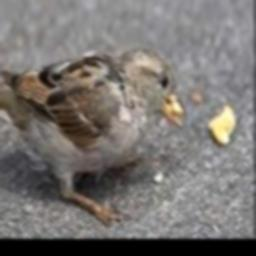Sparrow: (0, 47, 188, 225)
